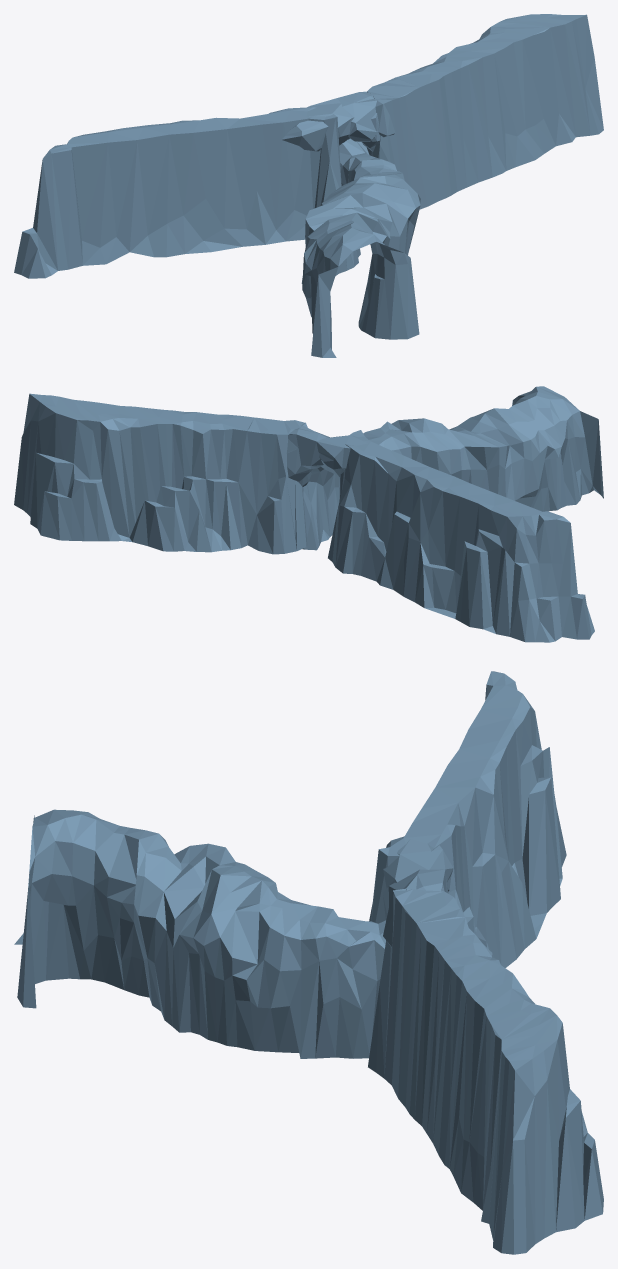
Rendered from Door&Cave1.fbx.
3 renders of one model, top to bottom at view 1: azimuth 30°, elevation 25°; view 2: azimuth 150°, elevation 25°; view 3: azimuth 270°, elevation 25°, orthographic. The views are drawn at different scales.
Visible parts, largest first — view 1: tutorial2; view 2: tutorial2; view 3: tutorial2.
Part boxes in pixels (x1,y1,x2,y2): tutorial2: (14,14,603,357); tutorial2: (14,386,603,642); tutorial2: (14,671,603,1254).
Size of the model in its own units: 47098 by 9299 by 27058.
